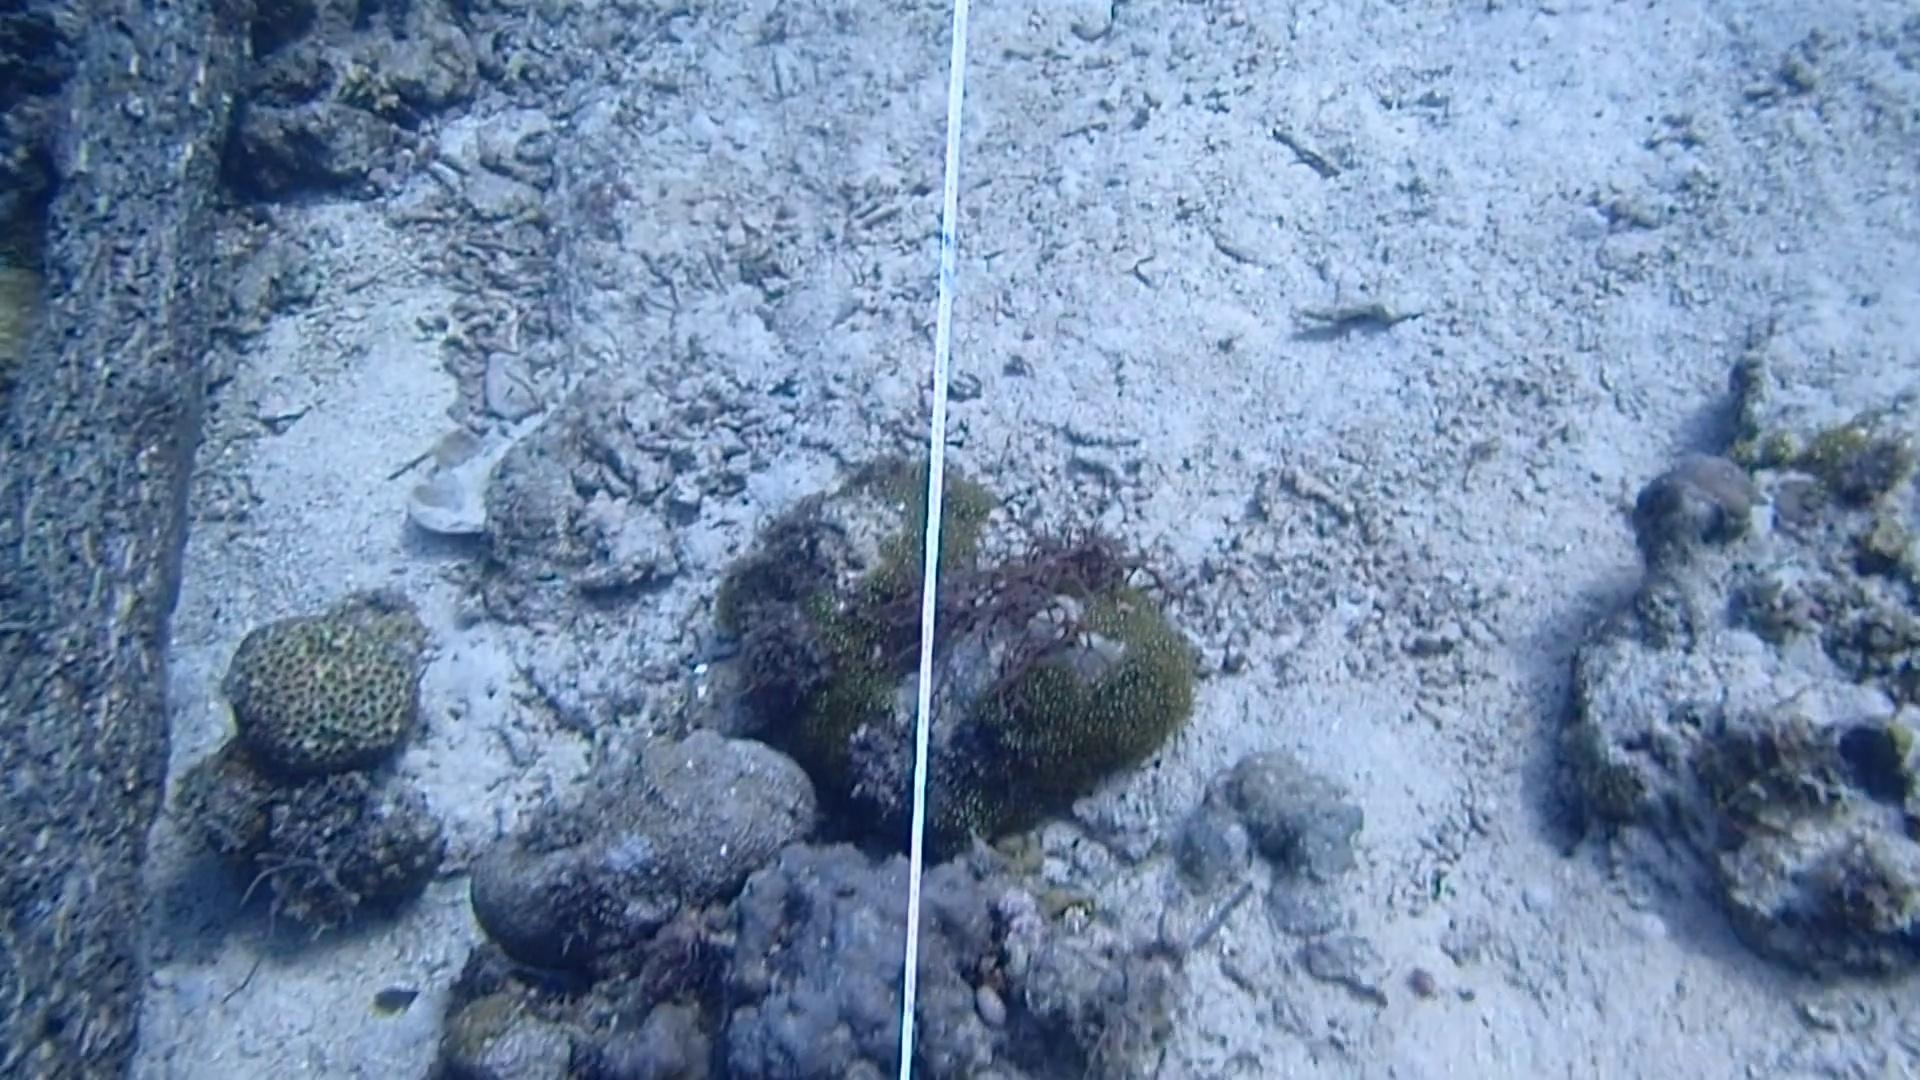UI: (368, 977, 423, 1027)
